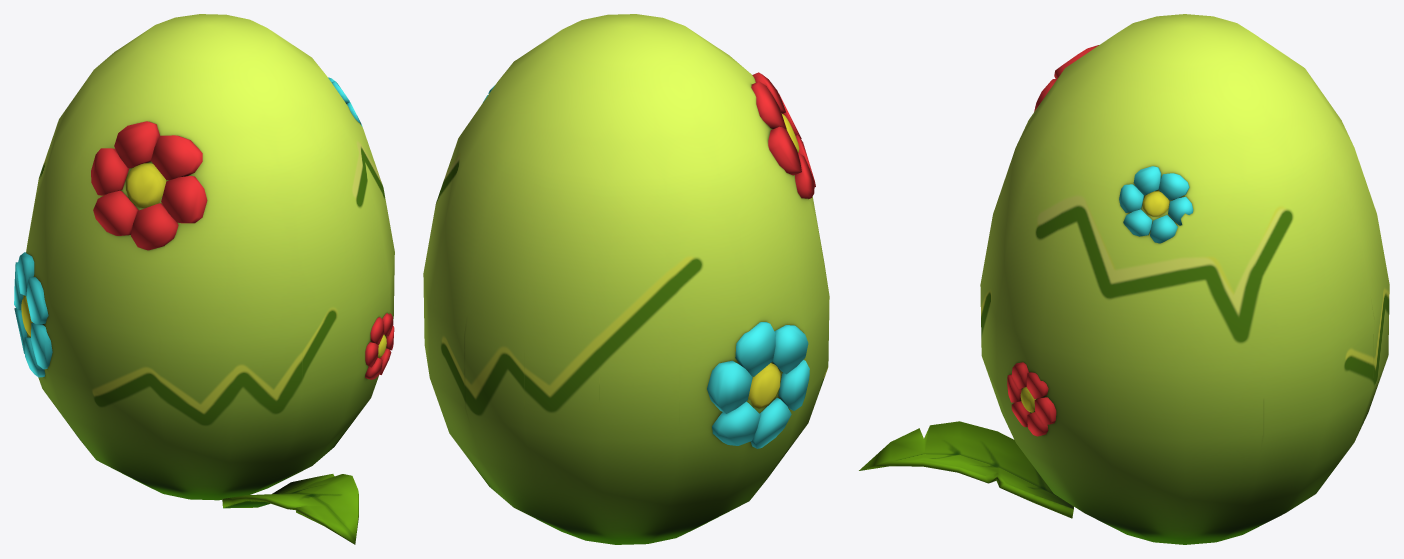
Rendered from egg1map7.fbx.
3 renders of one model, left to right at view 1: azimuth 30°, elevation 25°; view 2: azimuth 150°, elevation 25°; view 3: azimuth 270°, elevation 25°, orthographic. The views are drawn at different scales.
Parts seen in each view (by area): view 1: egg1map7; view 2: egg1map7; view 3: egg1map7.
Boxes of the visible parts, x1,y1,x2,y2 form: egg1map7: (14,14,394,544); egg1map7: (423,14,829,544); egg1map7: (859,14,1389,544).
Size of the model in its own units: 31.19 by 41.23 by 39.96.
1 material, 1 textured.
